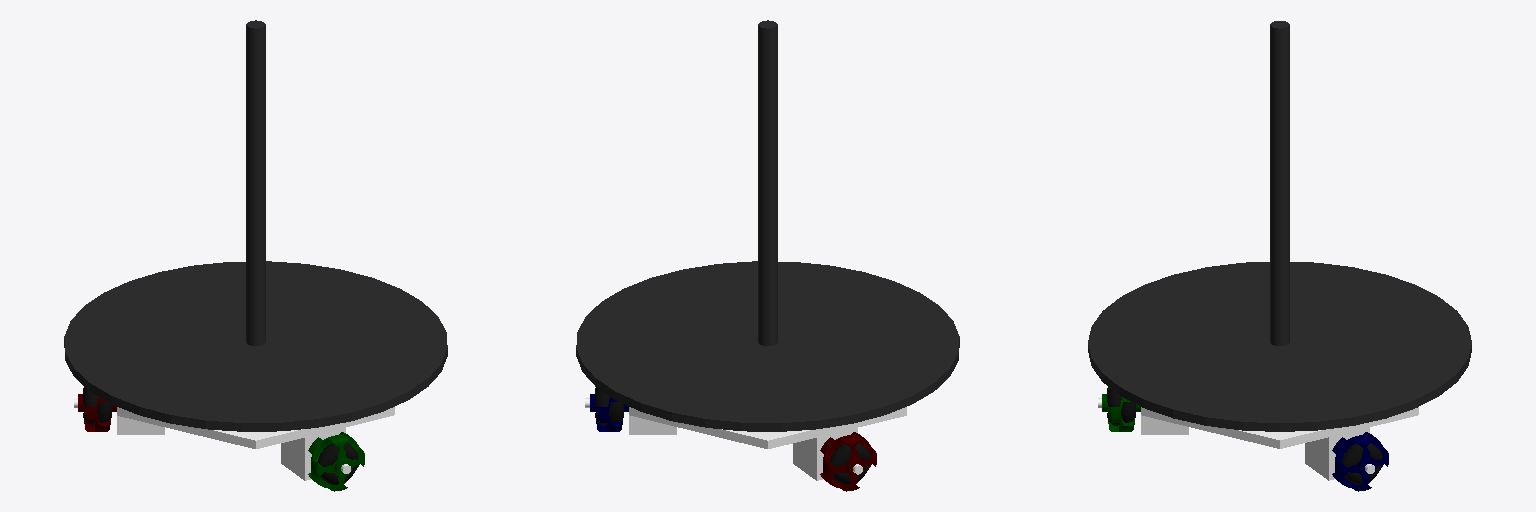
--- Facts derived from the render (not from the file) ---
The picture shows the robot from 3 angles, left to right: view 1: azimuth 30°, elevation 25°; view 2: azimuth 150°, elevation 25°; view 3: azimuth 270°, elevation 25°; orthographic projection.
Model triskarino with 34 links and 33 joints (27 continuous, 6 fixed), rooted at base_link, posed every joint at zero.
Links seen in each view (by area): view 1: layer_0_link, axis_link, plate_link, rim_back_link, rim_left_link; view 2: layer_0_link, axis_link, plate_link, rim_left_link, rim_right_link; view 3: layer_0_link, axis_link, plate_link, rim_right_link, rim_back_link.
Boxes of the visible links, x1=… form: layer_0_link: x1=64, y1=261, x2=447, y2=431; axis_link: x1=246, y1=20, x2=265, y2=345; plate_link: x1=74, y1=399, x2=394, y2=480; rim_back_link: x1=308, y1=432, x2=364, y2=491; rim_left_link: x1=78, y1=387, x2=116, y2=431; layer_0_link: x1=576, y1=261, x2=959, y2=431; axis_link: x1=758, y1=20, x2=777, y2=345; plate_link: x1=585, y1=398, x2=906, y2=480; rim_left_link: x1=820, y1=432, x2=876, y2=491; rim_right_link: x1=590, y1=387, x2=628, y2=431; layer_0_link: x1=1088, y1=262, x2=1471, y2=431; axis_link: x1=1270, y1=21, x2=1289, y2=345; plate_link: x1=1098, y1=398, x2=1418, y2=480; rim_right_link: x1=1332, y1=432, x2=1388, y2=491; rim_back_link: x1=1102, y1=387, x2=1140, y2=431.
Bounding box of the posed robot: 0.4 × 0.4 × 0.465 m (x, y, z).
28 mesh visuals loaded from 4 distinct referenced files (3 binary STL); not drawn: 1 (reference not matched to a file when rendering).

URDF robot description (triskarino):
<?xml version="1.0" ?>
<!-- =================================================================================== -->
<!-- |    This document was autogenerated by xacro from triskarino.urdf.xacro          | -->
<!-- |    EDITING THIS FILE BY HAND IS NOT RECOMMENDED                                 | -->
<!-- =================================================================================== -->
<robot name="triskarino">
  <!-- Specify some standard inertial calculations https://en.wikipedia.org/wiki/List_of_moments_of_inertia -->
  <!-- These make use of xacro's mathematical functionality -->
  <!-- Specify some standard inertial calculations https://en.wikipedia.org/wiki/List_of_moments_of_inertia -->
  <!-- These make use of xacro's mathematical functionality -->
  <material name="black">
    <color rgba="0.0 0.0 0.0 1.0"/>
  </material>
  <material name="blue">
    <color rgba="0.0 0.0 0.8 1.0"/>
  </material>
  <material name="green">
    <color rgba="0.0 0.8 0.0 1.0"/>
  </material>
  <material name="grey">
    <color rgba="0.2 0.2 0.2 1.0"/>
  </material>
  <material name="orange">
    <color rgba="1.0 0.4235294117647059 0.0392156862745098 1.0"/>
  </material>
  <material name="dark_grey">
    <color rgba="0.8627450980392157 0.8627450980392157 0.8627450980392157 1.0"/>
  </material>
  <material name="brown">
    <color rgba="0.8705882352941177 0.8117647058823529 0.7647058823529411 1.0"/>
  </material>
  <material name="red">
    <color rgba="0.8 0.0 0.0 1.0"/>
  </material>
  <material name="white">
    <color rgba="1.0 1.0 1.0 1.0"/>
  </material>
  <link name="base_link"/>
  <link name="plate_link">
    <inertial>
      <origin xyz="0.00000000 0.00000000 33.57142844"/>
      <mass value="1.00000000"/>
      <inertia ixx="6092.55688578" ixy="-0.00000000" ixz="0.00000000" iyy="6092.55696749" iyz="0.00000265" izz="11631.80010839"/>
    </inertial>
    <visual>
      <geometry>
        <mesh filename="package://triskarino_description/meshes/robot_base.stl" scale="0.001 0.001 0.001"/>
      </geometry>
      <material name="base_material">
        <color rgba="1 1 1 1"/>
      </material>
      <origin rpy="0 3.14 0"/>
    </visual>
    <collision>
      <geometry>
        <mesh filename="package://triskarino_description/meshes/robot_base.stl" scale="0.001 0.001 0.001"/>
      </geometry>
      <origin rpy="0 3.14 0"/>
    </collision>
  </link>
  <joint name="plate_joint" type="fixed">
    <parent link="base_link"/>
    <child link="plate_link"/>
    <origin rpy="0 0 0" xyz="0 0 0.1"/>
  </joint>
  <gazebo reference="plate_link">
    <mu1 value="0.0"/>
    <mu2 value="0.0"/>
    <kp value="1000000"/>
    <kd value="1"/>
    <implicitSpringDamper>true</implicitSpringDamper>
    <implicitSpringDamper>true</implicitSpringDamper>
    <maxContacts value="0"/>
  </gazebo>
  <joint name="base_footprint_joint" type="fixed">
    <parent link="base_link"/>
    <child link="base_footprint"/>
    <origin rpy="0 0 0" xyz="0 0 0"/>
  </joint>
  <link name="base_footprint"/>
  <joint name="rim_left_joint" type="continuous">
    <parent link="plate_link"/>
    <child link="rim_left_link"/>
    <axis xyz="0 0 1"/>
    <origin rpy="1.570796326794896 0 1.047197551196597" xyz="-0.142894191624 0.0825 -0.035"/>
  </joint>
  <link name="rim_left_link">
    <inertial>
      <origin xyz="-0.00000435 -0.00000262 -0.00011790"/>
      <mass value="0.20000000"/>
      <inertia ixx="0.00005620" ixy="-0.00000000" ixz="0.00000000" iyy="0.00005620" iyz="-0.00000000" izz="0.00007735"/>
    </inertial>
    <visual>
      <geometry>
        <mesh filename="package://triskarino_description/meshes/rim_scaled.stl"/>
      </geometry>
      <material name="rim_left_material">
        <color rgba="0.3 0 0 1"/>
      </material>
    </visual>
    <collision>
      <origin rpy="0 0 0" xyz="0 0 0"/>
      <geometry>
        <cylinder length="0.02" radius="0.032"/>
      </geometry>
      <surface>
        <bounce restitution_coefficient="0.0001"/>
      </surface>
    </collision>
  </link>
  <link name="roller_e_rim_left_link_link">
    <inertial>
      <origin xyz="0.00000004 -0.00000000 -0.00000002"/>
      <mass value="0.05000000"/>
      <inertia ixx="0.00000328" ixy="0.00000000" ixz="-0.00000000" iyy="0.00000328" iyz="-0.00000000" izz="0.00000191"/>
    </inertial>
    <visual>
      <geometry>
        <mesh filename="package://triskarino_description/meshes/roller_scaled.stl"/>
      </geometry>
      <material name="roller_material">
        <color rgba="0.1 0.1 0.1 1"/>
      </material>
    </visual>
    <collision>
      <geometry>
        <mesh filename="package://triskarino_description/meshes/roller_scaled.stl"/>
      </geometry>
    </collision>
  </link>
  <gazebo reference="roller_e_{parent}">
    <material>Gazebo/Black</material>
  </gazebo>
  <joint name="roller_e_rim_left_link_joint" type="continuous">
    <parent link="rim_left_link"/>
    <child link="roller_e_rim_left_link_link"/>
    <axis xyz="0 0 1"/>
    <origin rpy="-1.570796326794896 0 0" xyz="0.01355 0 0.0055"/>
  </joint>
  <gazebo reference="roller_e_rim_left_link_link">
    <mu1 value="0.0"/>
    <mu2 value="0.0"/>
    <minDepth>0.001</minDepth>
    <kp value="1000000"/>
    <kd value="1"/>
    <maxContacts value="0"/>
  </gazebo>
  <link name="roller_ne_rim_left_link_link">
    <inertial>
      <origin xyz="0.00000004 -0.00000000 -0.00000002"/>
      <mass value="0.05000000"/>
      <inertia ixx="0.00000328" ixy="0.00000000" ixz="-0.00000000" iyy="0.00000328" iyz="-0.00000000" izz="0.00000191"/>
    </inertial>
    <visual>
      <geometry>
        <mesh filename="package://triskarino_description/meshes/roller_scaled.stl"/>
      </geometry>
      <material name="roller_material">
        <color rgba="0.1 0.1 0.1 1"/>
      </material>
    </visual>
    <collision>
      <geometry>
        <mesh filename="package://triskarino_description/meshes/roller_scaled.stl"/>
      </geometry>
    </collision>
  </link>
  <gazebo reference="roller_ne_{parent}">
    <material>Gazebo/Black</material>
  </gazebo>
  <joint name="roller_ne_rim_left_link_joint" type="continuous">
    <parent link="rim_left_link"/>
    <child link="roller_ne_rim_left_link_link"/>
    <axis xyz="0 0 1"/>
    <origin rpy="-1.570796326794896 0 0.7853981633974483" xyz="0.00958129689 0.00958129689 -0.0055"/>
  </joint>
  <gazebo reference="roller_ne_rim_left_link_link">
    <mu1 value="0.0"/>
    <mu2 value="0.0"/>
    <minDepth>0.001</minDepth>
    <kp value="1000000"/>
    <kd value="1"/>
    <maxContacts value="0"/>
  </gazebo>
  <link name="roller_n_rim_left_link_link">
    <inertial>
      <origin xyz="0.00000004 -0.00000000 -0.00000002"/>
      <mass value="0.05000000"/>
      <inertia ixx="0.00000328" ixy="0.00000000" ixz="-0.00000000" iyy="0.00000328" iyz="-0.00000000" izz="0.00000191"/>
    </inertial>
    <visual>
      <geometry>
        <mesh filename="package://triskarino_description/meshes/roller_scaled.stl"/>
      </geometry>
      <material name="roller_material">
        <color rgba="0.1 0.1 0.1 1"/>
      </material>
    </visual>
    <collision>
      <geometry>
        <mesh filename="package://triskarino_description/meshes/roller_scaled.stl"/>
      </geometry>
    </collision>
  </link>
  <gazebo reference="roller_n_{parent}">
    <material>Gazebo/Black</material>
  </gazebo>
  <joint name="roller_n_rim_left_link_joint" type="continuous">
    <parent link="rim_left_link"/>
    <child link="roller_n_rim_left_link_link"/>
    <axis xyz="0 0 1"/>
    <origin rpy="-1.570796326794896 0 1.570796326794896" xyz="0 0.01355 0.0055"/>
  </joint>
  <gazebo reference="roller_n_rim_left_link_link">
    <mu1 value="0.0"/>
    <mu2 value="0.0"/>
    <minDepth>0.001</minDepth>
    <kp value="1000000"/>
    <kd value="1"/>
    <maxContacts value="0"/>
  </gazebo>
  <link name="roller_nw_rim_left_link_link">
    <inertial>
      <origin xyz="0.00000004 -0.00000000 -0.00000002"/>
      <mass value="0.05000000"/>
      <inertia ixx="0.00000328" ixy="0.00000000" ixz="-0.00000000" iyy="0.00000328" iyz="-0.00000000" izz="0.00000191"/>
    </inertial>
    <visual>
      <geometry>
        <mesh filename="package://triskarino_description/meshes/roller_scaled.stl"/>
      </geometry>
      <material name="roller_material">
        <color rgba="0.1 0.1 0.1 1"/>
      </material>
    </visual>
    <collision>
      <geometry>
        <mesh filename="package://triskarino_description/meshes/roller_scaled.stl"/>
      </geometry>
    </collision>
  </link>
  <gazebo reference="roller_nw_{parent}">
    <material>Gazebo/Black</material>
  </gazebo>
  <joint name="roller_nw_rim_left_link_joint" type="continuous">
    <parent link="rim_left_link"/>
    <child link="roller_nw_rim_left_link_link"/>
    <axis xyz="0 0 1"/>
    <origin rpy="-1.570796326794896 0 2.356194490192345" xyz="-0.00958129689 0.00958129689 -0.0055"/>
  </joint>
  <gazebo reference="roller_nw_rim_left_link_link">
    <mu1 value="0.0"/>
    <mu2 value="0.0"/>
    <minDepth>0.001</minDepth>
    <kp value="1000000"/>
    <kd value="1"/>
    <maxContacts value="0"/>
  </gazebo>
  <link name="roller_w_rim_left_link_link">
    <inertial>
      <origin xyz="0.00000004 -0.00000000 -0.00000002"/>
      <mass value="0.05000000"/>
      <inertia ixx="0.00000328" ixy="0.00000000" ixz="-0.00000000" iyy="0.00000328" iyz="-0.00000000" izz="0.00000191"/>
    </inertial>
    <visual>
      <geometry>
        <mesh filename="package://triskarino_description/meshes/roller_scaled.stl"/>
      </geometry>
      <material name="roller_material">
        <color rgba="0.1 0.1 0.1 1"/>
      </material>
    </visual>
    <collision>
      <geometry>
        <mesh filename="package://triskarino_description/meshes/roller_scaled.stl"/>
      </geometry>
    </collision>
  </link>
  <gazebo reference="roller_w_{parent}">
    <material>Gazebo/Black</material>
  </gazebo>
  <joint name="roller_w_rim_left_link_joint" type="continuous">
    <parent link="rim_left_link"/>
    <child link="roller_w_rim_left_link_link"/>
    <axis xyz="0 0 1"/>
    <origin rpy="-1.570796326794896 0 3.141592653589793" xyz="-0.01355 0 0.0055"/>
  </joint>
  <gazebo reference="roller_w_rim_left_link_link">
    <mu1 value="0.0"/>
    <mu2 value="0.0"/>
    <minDepth>0.001</minDepth>
    <kp value="1000000"/>
    <kd value="1"/>
    <maxContacts value="0"/>
  </gazebo>
  <link name="roller_sw_rim_left_link_link">
    <inertial>
      <origin xyz="0.00000004 -0.00000000 -0.00000002"/>
      <mass value="0.05000000"/>
      <inertia ixx="0.00000328" ixy="0.00000000" ixz="-0.00000000" iyy="0.00000328" iyz="-0.00000000" izz="0.00000191"/>
    </inertial>
    <visual>
      <geometry>
        <mesh filename="package://triskarino_description/meshes/roller_scaled.stl"/>
      </geometry>
      <material name="roller_material">
        <color rgba="0.1 0.1 0.1 1"/>
      </material>
    </visual>
    <collision>
      <geometry>
        <mesh filename="package://triskarino_description/meshes/roller_scaled.stl"/>
      </geometry>
    </collision>
  </link>
  <gazebo reference="roller_sw_{parent}">
    <material>Gazebo/Black</material>
  </gazebo>
  <joint name="roller_sw_rim_left_link_joint" type="continuous">
    <parent link="rim_left_link"/>
    <child link="roller_sw_rim_left_link_link"/>
    <axis xyz="0 0 1"/>
    <origin rpy="-1.570796326794896 0 -2.356194490192345" xyz="-0.00958129689 -0.00958129689 -0.0055"/>
  </joint>
  <gazebo reference="roller_sw_rim_left_link_link">
    <mu1 value="0.0"/>
    <mu2 value="0.0"/>
    <minDepth>0.001</minDepth>
    <kp value="1000000"/>
    <kd value="1"/>
    <maxContacts value="0"/>
  </gazebo>
  <link name="roller_s_rim_left_link_link">
    <inertial>
      <origin xyz="0.00000004 -0.00000000 -0.00000002"/>
      <mass value="0.05000000"/>
      <inertia ixx="0.00000328" ixy="0.00000000" ixz="-0.00000000" iyy="0.00000328" iyz="-0.00000000" izz="0.00000191"/>
    </inertial>
    <visual>
      <geometry>
        <mesh filename="package://triskarino_description/meshes/roller_scaled.stl"/>
      </geometry>
      <material name="roller_material">
        <color rgba="0.1 0.1 0.1 1"/>
      </material>
    </visual>
    <collision>
      <geometry>
        <mesh filename="package://triskarino_description/meshes/roller_scaled.stl"/>
      </geometry>
    </collision>
  </link>
  <gazebo reference="roller_s_{parent}">
    <material>Gazebo/Black</material>
  </gazebo>
  <joint name="roller_s_rim_left_link_joint" type="continuous">
    <parent link="rim_left_link"/>
    <child link="roller_s_rim_left_link_link"/>
    <axis xyz="0 0 1"/>
    <origin rpy="-1.570796326794896 0 -1.570796326794896" xyz="0 -0.01355 0.0055"/>
  </joint>
  <gazebo reference="roller_s_rim_left_link_link">
    <mu1 value="0.0"/>
    <mu2 value="0.0"/>
    <minDepth>0.001</minDepth>
    <kp value="1000000"/>
    <kd value="1"/>
    <maxContacts value="0"/>
  </gazebo>
  <link name="roller_se_rim_left_link_link">
    <inertial>
      <origin xyz="0.00000004 -0.00000000 -0.00000002"/>
      <mass value="0.05000000"/>
      <inertia ixx="0.00000328" ixy="0.00000000" ixz="-0.00000000" iyy="0.00000328" iyz="-0.00000000" izz="0.00000191"/>
    </inertial>
    <visual>
      <geometry>
        <mesh filename="package://triskarino_description/meshes/roller_scaled.stl"/>
      </geometry>
      <material name="roller_material">
        <color rgba="0.1 0.1 0.1 1"/>
      </material>
    </visual>
    <collision>
      <geometry>
        <mesh filename="package://triskarino_description/meshes/roller_scaled.stl"/>
      </geometry>
    </collision>
  </link>
  <gazebo reference="roller_se_{parent}">
    <material>Gazebo/Black</material>
  </gazebo>
  <joint name="roller_se_rim_left_link_joint" type="continuous">
    <parent link="rim_left_link"/>
    <child link="roller_se_rim_left_link_link"/>
    <axis xyz="0 0 1"/>
    <origin rpy="-1.570796326794896 0 -0.7853981633974483" xyz="0.00958129689 -0.00958129689 -0.0055"/>
  </joint>
  <gazebo reference="roller_se_rim_left_link_link">
    <mu1 value="0.0"/>
    <mu2 value="0.0"/>
    <minDepth>0.001</minDepth>
    <kp value="1000000"/>
    <kd value="1"/>
    <maxContacts value="0"/>
  </gazebo>
  <transmission name="rim_left_transmission">
    <type>transmission_interface/SimpleTransmission</type>
    <joint name="rim_left_joint">
      <hardwareInterface>hardware_interface/VelocityJointInterface</hardwareInterface>
    </joint>
    <actuator name="rim_left_motor">
      <hardwareInterface>hardware_interface/VelocityJointInterface</hardwareInterface>
      <mechanicalReduction>1</mechanicalReduction>
    </actuator>
  </transmission>
  <gazebo reference="rim_left_link">
    <collision name="rim_left_link_collision">
      <surface>
        <contact>
          <ode>
            <kp>1e+6</kp>
            <kd>1</kd>
            <min_depth>0.00001</min_depth>
          </ode>
        </contact>
        <friction>
          <ode>
            <mu>0</mu>
            <mu2>0</mu2>
            <max_contacts>2</max_contacts>
            <fdir1>0 0 1</fdir1>
            <slip1>1</slip1>
            <slip2>1</slip2>
          </ode>
        </friction>
      </surface>
    </collision>
  </gazebo>
  <joint name="rim_back_joint" type="continuous">
    <parent link="plate_link"/>
    <child link="rim_back_link"/>
    <axis xyz="0 0 1"/>
    <origin rpy="1.570796326794896 0 3.141592653589793" xyz="0 -0.1650 -0.035"/>
  </joint>
  <link name="rim_back_link">
    <inertial>
      <origin xyz="-0.00000435 -0.00000262 -0.00011790"/>
      <mass value="0.20000000"/>
      <inertia ixx="0.00005620" ixy="-0.00000000" ixz="0.00000000" iyy="0.00005620" iyz="-0.00000000" izz="0.00007735"/>
    </inertial>
    <visual>
      <geometry>
        <mesh filename="package://triskarino_description/meshes/rim_scaled.stl"/>
      </geometry>
      <material name="rim_back_material">
        <color rgba="0 0.3 0 1"/>
      </material>
    </visual>
    <collision>
      <origin rpy="0 0 0" xyz="0 0 0"/>
      <geometry>
        <cylinder length="0.02" radius="0.032"/>
      </geometry>
      <surface>
        <bounce restitution_coefficient="0.0001"/>
      </surface>
    </collision>
  </link>
  <link name="roller_e_rim_back_link_link">
    <inertial>
      <origin xyz="0.00000004 -0.00000000 -0.00000002"/>
      <mass value="0.05000000"/>
      <inertia ixx="0.00000328" ixy="0.00000000" ixz="-0.00000000" iyy="0.00000328" iyz="-0.00000000" izz="0.00000191"/>
    </inertial>
    <visual>
      <geometry>
        <mesh filename="package://triskarino_description/meshes/roller_scaled.stl"/>
      </geometry>
      <material name="roller_material">
        <color rgba="0.1 0.1 0.1 1"/>
      </material>
    </visual>
    <collision>
      <geometry>
        <mesh filename="package://triskarino_description/meshes/roller_scaled.stl"/>
      </geometry>
    </collision>
  </link>
  <gazebo reference="roller_e_{parent}">
    <material>Gazebo/Black</material>
  </gazebo>
  <joint name="roller_e_rim_back_link_joint" type="continuous">
    <parent link="rim_back_link"/>
    <child link="roller_e_rim_back_link_link"/>
    <axis xyz="0 0 1"/>
    <origin rpy="-1.570796326794896 0 0" xyz="0.01355 0 0.0055"/>
  </joint>
  <gazebo reference="roller_e_rim_back_link_link">
    <mu1 value="0.0"/>
    <mu2 value="0.0"/>
    <minDepth>0.001</minDepth>
    <kp value="1000000"/>
    <kd value="1"/>
    <maxContacts value="0"/>
  </gazebo>
  <link name="roller_ne_rim_back_link_link">
    <inertial>
      <origin xyz="0.00000004 -0.00000000 -0.00000002"/>
      <mass value="0.05000000"/>
      <inertia ixx="0.00000328" ixy="0.00000000" ixz="-0.00000000" iyy="0.00000328" iyz="-0.00000000" izz="0.00000191"/>
    </inertial>
    <visual>
      <geometry>
        <mesh filename="package://triskarino_description/meshes/roller_scaled.stl"/>
      </geometry>
      <material name="roller_material">
        <color rgba="0.1 0.1 0.1 1"/>
      </material>
    </visual>
    <collision>
      <geometry>
        <mesh filename="package://triskarino_description/meshes/roller_scaled.stl"/>
      </geometry>
    </collision>
  </link>
  <gazebo reference="roller_ne_{parent}">
    <material>Gazebo/Black</material>
  </gazebo>
  <joint name="roller_ne_rim_back_link_joint" type="continuous">
    <parent link="rim_back_link"/>
    <child link="roller_ne_rim_back_link_link"/>
    <axis xyz="0 0 1"/>
    <origin rpy="-1.570796326794896 0 0.7853981633974483" xyz="0.00958129689 0.00958129689 -0.0055"/>
  </joint>
  <gazebo reference="roller_ne_rim_back_link_link">
    <mu1 value="0.0"/>
    <mu2 value="0.0"/>
    <minDepth>0.001</minDepth>
    <kp value="1000000"/>
    <kd value="1"/>
    <maxContacts value="0"/>
  </gazebo>
  <link name="roller_n_rim_back_link_link">
    <inertial>
      <origin xyz="0.00000004 -0.00000000 -0.00000002"/>
      <mass value="0.05000000"/>
      <inertia ixx="0.00000328" ixy="0.00000000" ixz="-0.00000000" iyy="0.00000328" iyz="-0.00000000" izz="0.00000191"/>
    </inertial>
    <visual>
      <geometry>
        <mesh filename="package://triskarino_description/meshes/roller_scaled.stl"/>
      </geometry>
      <material name="roller_material">
        <color rgba="0.1 0.1 0.1 1"/>
      </material>
    </visual>
    <collision>
      <geometry>
        <mesh filename="package://triskarino_description/meshes/roller_scaled.stl"/>
      </geometry>
    </collision>
  </link>
  <gazebo reference="roller_n_{parent}">
    <material>Gazebo/Black</material>
  </gazebo>
  <joint name="roller_n_rim_back_link_joint" type="continuous">
    <parent link="rim_back_link"/>
    <child link="roller_n_rim_back_link_link"/>
    <axis xyz="0 0 1"/>
    <origin rpy="-1.570796326794896 0 1.570796326794896" xyz="0 0.01355 0.0055"/>
  </joint>
  <gazebo reference="roller_n_rim_back_link_link">
    <mu1 value="0.0"/>
    <mu2 value="0.0"/>
    <minDepth>0.001</minDepth>
    <kp value="1000000"/>
    <kd value="1"/>
    <maxContacts value="0"/>
  </gazebo>
  <link name="roller_nw_rim_back_link_link">
    <inertial>
      <origin xyz="0.00000004 -0.00000000 -0.00000002"/>
      <mass value="0.05000000"/>
      <inertia ixx="0.00000328" ixy="0.00000000" ixz="-0.00000000" iyy="0.00000328" iyz="-0.00000000" izz="0.00000191"/>
    </inertial>
    <visual>
      <geometry>
        <mesh filename="package://triskarino_description/meshes/roller_scaled.stl"/>
      </geometry>
      <material name="roller_material">
        <color rgba="0.1 0.1 0.1 1"/>
      </material>
    </visual>
    <collision>
      <geometry>
        <mesh filename="package://triskarino_description/meshes/roller_scaled.stl"/>
      </geometry>
    </collision>
  </link>
  <gazebo reference="roller_nw_{parent}">
    <material>Gazebo/Black</material>
  </gazebo>
  <joint name="roller_nw_rim_back_link_joint" type="continuous">
    <parent link="rim_back_link"/>
    <child link="roller_nw_rim_back_link_link"/>
    <axis xyz="0 0 1"/>
    <origin rpy="-1.570796326794896 0 2.356194490192345" xyz="-0.00958129689 0.00958129689 -0.0055"/>
  </joint>
  <gazebo reference="roller_nw_rim_back_link_link">
    <mu1 value="0.0"/>
    <mu2 value="0.0"/>
    <minDepth>0.001</minDepth>
    <kp value="1000000"/>
    <kd value="1"/>
    <maxContacts value="0"/>
  </gazebo>
  <link name="roller_w_rim_back_link_link">
    <inertial>
      <origin xyz="0.00000004 -0.00000000 -0.00000002"/>
      <mass value="0.05000000"/>
      <inertia ixx="0.00000328" ixy="0.00000000" ixz="-0.00000000" iyy="0.00000328" iyz="-0.00000000" izz="0.00000191"/>
    </inertial>
    <visual>
      <geometry>
        <mesh filename="package://triskarino_description/meshes/roller_scaled.stl"/>
      </geometry>
      <material name="roller_material">
        <color rgba="0.1 0.1 0.1 1"/>
      </material>
    </visual>
    <collision>
      <geometry>
        <mesh filename="package://triskarino_description/meshes/roller_scaled.stl"/>
      </geometry>
    </collision>
  </link>
  <gazebo reference="roller_w_{parent}">
    <material>Gazebo/Black</material>
  </gazebo>
  <joint name="roller_w_rim_back_link_joint" type="continuous">
    <parent link="rim_back_link"/>
    <child link="roller_w_rim_back_link_link"/>
    <axis xyz="0 0 1"/>
    <origin rpy="-1.570796326794896 0 3.141592653589793" xyz="-0.01355 0 0.0055"/>
  </joint>
  <gazebo reference="roller_w_rim_back_link_link">
    <mu1 value="0.0"/>
    <mu2 value="0.0"/>
    <minDepth>0.001</minDepth>
    <kp value="1000000"/>
    <kd value="1"/>
    <maxContacts value="0"/>
  </gazebo>
  <link name="roller_sw_rim_back_link_link">
    <inertial>
      <origin xyz="0.00000004 -0.00000000 -0.00000002"/>
      <mass value="0.05000000"/>
      <inertia ixx="0.00000328" ixy="0.00000000" ixz="-0.00000000" iyy="0.00000328" iyz="-0.00000000" izz="0.00000191"/>
    </inertial>
    <visual>
      <geometry>
        <mesh filename="package://triskarino_description/meshes/roller_scaled.stl"/>
      </geometry>
      <material name="roller_material">
        <color rgba="0.1 0.1 0.1 1"/>
      </material>
    </visual>
    <collision>
      <geometry>
        <mesh filename="package://triskarino_description/meshes/roller_scaled.stl"/>
      </geometry>
    </collision>
  </link>
  <gazebo reference="roller_sw_{parent}">
    <material>Gazebo/Black</material>
  </gazebo>
  <joint name="roller_sw_rim_back_link_joint" type="continuous">
    <parent link="rim_back_link"/>
    <child link="roller_sw_rim_back_link_link"/>
    <axis xyz="0 0 1"/>
    <origin rpy="-1.570796326794896 0 -2.356194490192345" xyz="-0.00958129689 -0.00958129689 -0.0055"/>
  </joint>
  <gazebo reference="roller_sw_rim_back_link_link">
    <mu1 value="0.0"/>
    <mu2 value="0.0"/>
    <minDepth>0.001</minDepth>
    <kp value="1000000"/>
    <kd value="1"/>
    <maxContacts value="0"/>
  </gazebo>
  <link name="roller_s_rim_back_link_link">
    <inertial>
      <origin xyz="0.00000004 -0.00000000 -0.00000002"/>
      <mass value="0.05000000"/>
      <inertia ixx="0.00000328" ixy="0.00000000" ixz="-0.00000000" iyy="0.00000328" iyz="-0.00000000" izz="0.00000191"/>
    </inertial>
    <visual>
      <geometry>
        <mesh filename="package://triskarino_description/meshes/roller_scaled.stl"/>
      </geometry>
      <material name="roller_material">
        <color rgba="0.1 0.1 0.1 1"/>
      </material>
    </visual>
    <collision>
      <geometry>
        <mesh filename="package://triskarino_description/meshes/roller_scaled.stl"/>
      </geometry>
    </collision>
  </link>
  <gazebo reference="roller_s_{parent}">
    <material>Gazebo/Black</material>
  </gazebo>
  <joint name="roller_s_rim_back_link_joint" type="continuous">
    <parent link="rim_back_link"/>
    <child link="roller_s_rim_back_link_link"/>
    <axis xyz="0 0 1"/>
    <origin rpy="-1.570796326794896 0 -1.570796326794896" xyz="0 -0.01355 0.0055"/>
  </joint>
  <gazebo reference="roller_s_rim_back_link_link">
    <mu1 value="0.0"/>
    <mu2 value="0.0"/>
    <minDepth>0.001</minDepth>
    <kp value="1000000"/>
    <kd value="1"/>
    <maxContacts value="0"/>
  </gazebo>
  <link name="roller_se_rim_back_link_link">
    <inertial>
      <origin xyz="0.00000004 -0.00000000 -0.00000002"/>
      <mass value="0.05000000"/>
      <inertia ixx="0.00000328" ixy="0.00000000" ixz="-0.00000000" iyy="0.00000328" iyz="-0.00000000" izz="0.00000191"/>
    </inertial>
    <visual>
      <geometry>
        <mesh filename="package://triskarino_description/meshes/roller_scaled.stl"/>
      </geometry>
      <material name="roller_material">
        <color rgba="0.1 0.1 0.1 1"/>
      </material>
    </visual>
    <collision>
      <geometry>
        <mesh filename="package://triskarino_description/meshes/roller_scaled.stl"/>
      </geometry>
    </collision>
  </link>
  <gazebo reference="roller_se_{parent}">
    <material>Gazebo/Black</material>
  </gazebo>
  <joint name="roller_se_rim_back_link_joint" type="continuous">
    <parent link="rim_back_link"/>
    <child link="roller_se_rim_back_link_link"/>
    <axis xyz="0 0 1"/>
    <origin rpy="-1.570796326794896 0 -0.7853981633974483" xyz="0.00958129689 -0.00958129689 -0.0055"/>
  </joint>
  <gazebo reference="roller_se_rim_back_link_link">
    <mu1 value="0.0"/>
    <mu2 value="0.0"/>
    <minDepth>0.001</minDepth>
    <kp value="1000000"/>
    <kd value="1"/>
    <maxContacts value="0"/>
  </gazebo>
  <transmission name="rim_back_transmission">
    <type>transmission_interface/SimpleTransmission</type>
    <joint name="rim_back_joint">
      <hardwareInterface>hardware_interface/VelocityJointInterface</hardwareInterface>
    </joint>
    <actuator name="rim_back_motor">
      <hardwareInterface>hardware_interface/VelocityJointInterface</hardwareInterface>
      <mechanicalReduction>1</mechanicalReduction>
    </actuator>
  </transmission>
  <gazebo reference="rim_back_link">
    <collision name="rim_back_link_collision">
      <surface>
        <contact>
          <ode>
            <kp>1e+6</kp>
            <kd>1</kd>
            <min_depth>0.00001</min_depth>
          </ode>
        </contact>
        <friction>
          <ode>
            <mu>0</mu>
            <mu2>0</mu2>
            <max_contacts>2</max_contacts>
            <fdir1>0 0 1</fdir1>
            <slip1>1</slip1>
            <slip2>1</slip2>
          </ode>
        </friction>
      </surface>
    </collision>
  </gazebo>
  <joint name="rim_right_joint" type="continuous">
    <parent link="plate_link"/>
    <child link="rim_right_link"/>
    <axis xyz="0 0 1"/>
    <origin rpy="1.570796326794896 0 -1.047197551196597" xyz="0.142894191624 0.0825 -0.035"/>
  </joint>
  <link name="rim_right_link">
    <inertial>
      <origin xyz="-0.00000435 -0.00000262 -0.00011790"/>
      <mass value="0.20000000"/>
      <inertia ixx="0.00005620" ixy="-0.00000000" ixz="0.00000000" iyy="0.00005620" iyz="-0.00000000" izz="0.00007735"/>
    </inertial>
    <visual>
      <geometry>
        <mesh filename="package://triskarino_description/meshes/rim_scaled.stl"/>
      </geometry>
      <material name="rim_right_material">
        <color rgba="0 0 0.3 1"/>
      </material>
    </visual>
    <collision>
      <origin rpy="0 0 0" xyz="0 0 0"/>
      <geometry>
        <cylinder length="0.02" radius="0.032"/>
      </geometry>
      <surface>
        <bounce restitution_coefficient="0.0001"/>
      </surface>
    </collision>
  </link>
  <link name="roller_e_rim_right_link_link">
    <inertial>
      <origin xyz="0.00000004 -0.00000000 -0.00000002"/>
      <mass value="0.05000000"/>
      <inertia ixx="0.00000328" ixy="0.00000000" ixz="-0.00000000" iyy="0.00000328" iyz="-0.00000000" izz="0.00000191"/>
    </inertial>
    <visual>
      <geometry>
        <mesh filename="package://triskarino_description/meshes/roller_scaled.stl"/>
      </geometry>
      <material name="roller_material">
        <color rgba="0.1 0.1 0.1 1"/>
      </material>
    </visual>
    <collision>
      <geometry>
        <mesh filename="package://triskarino_description/meshes/roller_scaled.stl"/>
      </geometry>
    </collision>
  </link>
  <gazebo reference="roller_e_{parent}">
    <material>Gazebo/Black</material>
  </gazebo>
  <joint name="roller_e_rim_right_link_joint" type="continuous">
    <parent link="rim_right_link"/>
    <child link="roller_e_rim_right_link_link"/>
    <axis xyz="0 0 1"/>
    <origin rpy="-1.570796326794896 0 0" xyz="0.01355 0 0.0055"/>
  </joint>
  <gazebo reference="roller_e_rim_right_link_link">
    <mu1 value="0.0"/>
    <mu2 value="0.0"/>
    <minDepth>0.001</minDepth>
    <kp value="1000000"/>
    <kd value="1"/>
    <maxContacts value="0"/>
  </gazebo>
  <link name="roller_ne_rim_right_link_link">
    <inertial>
      <origin xyz="0.00000004 -0.00000000 -0.00000002"/>
      <mass value="0.05000000"/>
      <inertia ixx="0.00000328" ixy="0.00000000" ixz="-0.00000000" iyy="0.00000328" iyz="-0.00000000" izz="0.00000191"/>
    </inertial>
    <visual>
      <geometry>
        <mesh filename="package://triskarino_description/meshes/roller_scaled.stl"/>
      </geometry>
      <material name="roller_material">
        <color rgba="0.1 0.1 0.1 1"/>
      </material>
    </visual>
    <collision>
      <geometry>
        <mesh filename="package://triskarino_description/meshes/roller_scaled.stl"/>
      </geometry>
    </collision>
  </link>
  <gazebo reference="roller_ne_{parent}">
    <material>Gazebo/Black</material>
  </gazebo>
  <joint name="roller_ne_rim_right_link_joint" type="continuous">
    <parent link="rim_right_link"/>
    <child link="roller_ne_rim_right_link_link"/>
    <axis xyz="0 0 1"/>
    <origin rpy="-1.570796326794896 0 0.7853981633974483" xyz="0.00958129689 0.00958129689 -0.0055"/>
  </joint>
  <gazebo reference="roller_ne_rim_right_link_link">
    <mu1 value="0.0"/>
    <mu2 value="0.0"/>
    <minDepth>0.001</minDepth>
    <kp value="1000000"/>
    <kd value="1"/>
    <maxContacts value="0"/>
  </gazebo>
  <link name="roller_n_rim_right_link_link">
    <inertial>
      <origin xyz="0.00000004 -0.00000000 -0.00000002"/>
      <mass value="0.05000000"/>
      <inertia ixx="0.00000328" ixy="0.00000000" ixz="-0.00000000" iyy="0.00000328" iyz="-0.00000000" izz="0.00000191"/>
    </inertial>
    <visual>
      <geometry>
        <mesh filename="package://triskarino_description/meshes/roller_scaled.stl"/>
      </geometry>
      <material name="roller_material">
        <color rgba="0.1 0.1 0.1 1"/>
      </material>
    </visual>
    <collision>
      <geometry>
        <mesh filename="package://triskarino_description/meshes/roller_scaled.stl"/>
      </geometry>
    </collision>
  </link>
  <gazebo reference="roller_n_{parent}">
    <material>Gazebo/Black</material>
  </gazebo>
  <joint name="roller_n_rim_right_link_joint" type="continuous">
    <parent link="rim_right_link"/>
    <child link="roller_n_rim_right_link_link"/>
    <axis xyz="0 0 1"/>
    <origin rpy="-1.570796326794896 0 1.570796326794896" xyz="0 0.01355 0.0055"/>
  </joint>
  <gazebo reference="roller_n_rim_right_link_link">
    <mu1 value="0.0"/>
    <mu2 value="0.0"/>
    <minDepth>0.001</minDepth>
    <kp value="1000000"/>
    <kd value="1"/>
    <maxContacts value="0"/>
  </gazebo>
  <link name="roller_nw_rim_right_link_link">
    <inertial>
      <origin xyz="0.00000004 -0.00000000 -0.00000002"/>
      <mass value="0.05000000"/>
      <inertia ixx="0.00000328" ixy="0.00000000" ixz="-0.00000000" iyy="0.00000328" iyz="-0.00000000" izz="0.00000191"/>
    </inertial>
    <visual>
      <geometry>
        <mesh filename="package://triskarino_description/meshes/roller_scaled.stl"/>
      </geometry>
      <material name="roller_material">
        <color rgba="0.1 0.1 0.1 1"/>
      </material>
    </visual>
    <collision>
      <geometry>
        <mesh filename="package://triskarino_description/meshes/roller_scaled.stl"/>
      </geometry>
    </collision>
  </link>
  <gazebo reference="roller_nw_{parent}">
    <material>Gazebo/Black</material>
  </gazebo>
  <joint name="roller_nw_rim_right_link_joint" type="continuous">
    <parent link="rim_right_link"/>
    <child link="roller_nw_rim_right_link_link"/>
    <axis xyz="0 0 1"/>
    <origin rpy="-1.570796326794896 0 2.356194490192345" xyz="-0.00958129689 0.00958129689 -0.0055"/>
  </joint>
  <gazebo reference="roller_nw_rim_right_link_link">
    <mu1 value="0.0"/>
    <mu2 value="0.0"/>
    <minDepth>0.001</minDepth>
    <kp value="1000000"/>
    <kd value="1"/>
    <maxContacts value="0"/>
  </gazebo>
  <link name="roller_w_rim_right_link_link">
    <inertial>
      <origin xyz="0.00000004 -0.00000000 -0.00000002"/>
      <mass value="0.05000000"/>
      <inertia ixx="0.00000328" ixy="0.00000000" ixz="-0.00000000" iyy="0.00000328" iyz="-0.00000000" izz="0.00000191"/>
    </inertial>
    <visual>
      <geometry>
        <mesh filename="package://triskarino_description/meshes/roller_scaled.stl"/>
      </geometry>
      <material name="roller_material">
        <color rgba="0.1 0.1 0.1 1"/>
      </material>
    </visual>
    <collision>
      <geometry>
        <mesh filename="package://triskarino_description/meshes/roller_scaled.stl"/>
      </geometry>
    </collision>
  </link>
  <gazebo reference="roller_w_{parent}">
    <material>Gazebo/Black</material>
  </gazebo>
  <joint name="roller_w_rim_right_link_joint" type="continuous">
    <parent link="rim_right_link"/>
    <child link="roller_w_rim_right_link_link"/>
    <axis xyz="0 0 1"/>
    <origin rpy="-1.570796326794896 0 3.141592653589793" xyz="-0.01355 0 0.0055"/>
  </joint>
  <gazebo reference="roller_w_rim_right_link_link">
    <mu1 value="0.0"/>
    <mu2 value="0.0"/>
    <minDepth>0.001</minDepth>
    <kp value="1000000"/>
    <kd value="1"/>
    <maxContacts value="0"/>
  </gazebo>
  <link name="roller_sw_rim_right_link_link">
    <inertial>
      <origin xyz="0.00000004 -0.00000000 -0.00000002"/>
      <mass value="0.05000000"/>
      <inertia ixx="0.00000328" ixy="0.00000000" ixz="-0.00000000" iyy="0.00000328" iyz="-0.00000000" izz="0.00000191"/>
    </inertial>
    <visual>
      <geometry>
        <mesh filename="package://triskarino_description/meshes/roller_scaled.stl"/>
      </geometry>
      <material name="roller_material">
        <color rgba="0.1 0.1 0.1 1"/>
      </material>
    </visual>
    <collision>
      <geometry>
        <mesh filename="package://triskarino_description/meshes/roller_scaled.stl"/>
      </geometry>
    </collision>
  </link>
  <gazebo reference="roller_sw_{parent}">
    <material>Gazebo/Black</material>
  </gazebo>
  <joint name="roller_sw_rim_right_link_joint" type="continuous">
    <parent link="rim_right_link"/>
    <child link="roller_sw_rim_right_link_link"/>
    <axis xyz="0 0 1"/>
    <origin rpy="-1.570796326794896 0 -2.356194490192345" xyz="-0.00958129689 -0.00958129689 -0.0055"/>
  </joint>
  <gazebo reference="roller_sw_rim_right_link_link">
    <mu1 value="0.0"/>
    <mu2 value="0.0"/>
    <minDepth>0.001</minDepth>
    <kp value="1000000"/>
    <kd value="1"/>
    <maxContacts value="0"/>
  </gazebo>
  <link name="roller_s_rim_right_link_link">
    <inertial>
      <origin xyz="0.00000004 -0.00000000 -0.00000002"/>
      <mass value="0.05000000"/>
      <inertia ixx="0.00000328" ixy="0.00000000" ixz="-0.00000000" iyy="0.00000328" iyz="-0.00000000" izz="0.00000191"/>
    </inertial>
    <visual>
      <geometry>
        <mesh filename="package://triskarino_description/meshes/roller_scaled.stl"/>
      </geometry>
      <material name="roller_material">
        <color rgba="0.1 0.1 0.1 1"/>
      </material>
    </visual>
    <collision>
      <geometry>
        <mesh filename="package://triskarino_description/meshes/roller_scaled.stl"/>
      </geometry>
    </collision>
  </link>
  <gazebo reference="roller_s_{parent}">
    <material>Gazebo/Black</material>
  </gazebo>
  <joint name="roller_s_rim_right_link_joint" type="continuous">
    <parent link="rim_right_link"/>
    <child link="roller_s_rim_right_link_link"/>
    <axis xyz="0 0 1"/>
    <origin rpy="-1.570796326794896 0 -1.570796326794896" xyz="0 -0.01355 0.0055"/>
  </joint>
  <gazebo reference="roller_s_rim_right_link_link">
    <mu1 value="0.0"/>
    <mu2 value="0.0"/>
    <minDepth>0.001</minDepth>
    <kp value="1000000"/>
    <kd value="1"/>
    <maxContacts value="0"/>
  </gazebo>
  <link name="roller_se_rim_right_link_link">
    <inertial>
      <origin xyz="0.00000004 -0.00000000 -0.00000002"/>
      <mass value="0.05000000"/>
      <inertia ixx="0.00000328" ixy="0.00000000" ixz="-0.00000000" iyy="0.00000328" iyz="-0.00000000" izz="0.00000191"/>
    </inertial>
    <visual>
      <geometry>
        <mesh filename="package://triskarino_description/meshes/roller_scaled.stl"/>
      </geometry>
      <material name="roller_material">
        <color rgba="0.1 0.1 0.1 1"/>
      </material>
    </visual>
    <collision>
      <geometry>
        <mesh filename="package://triskarino_description/meshes/roller_scaled.stl"/>
      </geometry>
    </collision>
  </link>
  <gazebo reference="roller_se_{parent}">
    <material>Gazebo/Black</material>
  </gazebo>
  <joint name="roller_se_rim_right_link_joint" type="continuous">
    <parent link="rim_right_link"/>
    <child link="roller_se_rim_right_link_link"/>
    <axis xyz="0 0 1"/>
    <origin rpy="-1.570796326794896 0 -0.7853981633974483" xyz="0.00958129689 -0.00958129689 -0.0055"/>
  </joint>
  <gazebo reference="roller_se_rim_right_link_link">
    <mu1 value="0.0"/>
    <mu2 value="0.0"/>
    <minDepth>0.001</minDepth>
    <kp value="1000000"/>
    <kd value="1"/>
    <maxContacts value="0"/>
  </gazebo>
  <transmission name="rim_right_transmission">
    <type>transmission_interface/SimpleTransmission</type>
    <joint name="rim_right_joint">
      <hardwareInterface>hardware_interface/VelocityJointInterface</hardwareInterface>
    </joint>
    <actuator name="rim_right_motor">
      <hardwareInterface>hardware_interface/VelocityJointInterface</hardwareInterface>
      <mechanicalReduction>1</mechanicalReduction>
    </actuator>
  </transmission>
  <gazebo reference="rim_right_link">
    <collision name="rim_right_link_collision">
      <surface>
        <contact>
          <ode>
            <kp>1e+6</kp>
            <kd>1</kd>
            <min_depth>0.00001</min_depth>
          </ode>
        </contact>
        <friction>
          <ode>
            <mu>0</mu>
            <mu2>0</mu2>
            <max_contacts>2</max_contacts>
            <fdir1>0 0 1</fdir1>
            <slip1>1</slip1>
            <slip2>1</slip2>
          </ode>
        </friction>
      </surface>
    </collision>
  </gazebo>
  <joint name="axis_joint" type="fixed">
    <parent link="plate_link"/>
    <child link="axis_link"/>
    <origin rpy="0 0 0" xyz="0 0 0.2"/>
  </joint>
  <link name="axis_link">
    <visual>
      <geometry>
        <cylinder length="0.4" radius="0.01"/>
      </geometry>
      <material name="grey"/>
    </visual>
    <collision>
      <geometry>
        <cylinder length="0.4" radius="0.01"/>
      </geometry>
    </collision>
    <inertial>
      <origin rpy="0 0 0" xyz="0 0 0"/>
      <mass value="1"/>
      <inertia ixx="0.013358333333333335" ixy="0.0" ixz="0.0" iyy="0.013358333333333335" iyz="0.0" izz="5e-05"/>
    </inertial>
  </link>
  <joint name="layer_0_joint" type="fixed">
    <parent link="axis_link"/>
    <child link="layer_0_link"/>
    <origin rpy="0 0 0" xyz="0 0 -0.17"/>
  </joint>
  <link name="layer_0_link">
    <visual>
      <geometry>
        <cylinder length="0.01" radius="0.2"/>
      </geometry>
      <material name="grey"/>
    </visual>
    <collision>
      <geometry>
        <cylinder length="0.01" radius="0.2"/>
      </geometry>
    </collision>
    <inertial>
      <origin rpy="0 0 0" xyz="0 0 0"/>
      <mass value="1"/>
      <inertia ixx="0.010008333333333334" ixy="0.0" ixz="0.0" iyy="0.010008333333333334" iyz="0.0" izz="0.020000000000000004"/>
    </inertial>
  </link>
  <link name="laser">
    <inertial>
      <mass value="1.1"/>
      <origin xyz="0 0 0"/>
      <inertia ixx="0.00307156543804" ixy="0.0" ixz="0.0" iyy="0.0031284904152700005" iyz="0.0" izz="0.00196432421427"/>
    </inertial>
  </link>
  <gazebo reference="laser">
    <turnGravityOff>true</turnGravityOff>
    <sensor name="laser" type="ray">
      <pose>0 0 0 0 0 0</pose>
      <visualize>true</visualize>
      <update_rate>10.0</update_rate>
      <ray>
        <scan>
          <horizontal>
            <samples>720</samples>
            <resolution>1</resolution>
            <min_angle>-2.0944</min_angle>
            <max_angle>2.0944</max_angle>
          </horizontal>
        </scan>
        <range>
          <min>0.01</min>
          <max>30</max>
          <resolution>0.01</resolution>
        </range>
        <noise>
          <type>gaussian</type>
          <mean>0.0</mean>
          <stddev>0.001</stddev>
        </noise>
      </ray>
      <plugin filename="libgazebo_ros_laser.so" name="laser_controller">
        <tf_prefix/>
        <frameName>laser</frameName>
        <topicName>scan</topicName>
        <robotNamespace>triskarino</robotNamespace>
      </plugin>
    </sensor>
  </gazebo>
  <joint name="laser_mount_joint" type="fixed">
    <origin rpy="0 0 1.5708" xyz="0 0.11 0"/>
    <parent link="layer_0_link"/>
    <child link="laser_mount"/>
  </joint>
  <link name="laser_mount">
    <visual>
      <origin rpy="0 0 0" xyz="0 0 0"/>
      <geometry>
        <!-- Origin of this mesh is the base of the bracket. -->
        <mesh filename="package://triskarino_description/meshes/hokuyo_ust10.stl"/>
      </geometry>
      <material name="dark_grey"/>
    </visual>
  </link>
  <joint name="laser_joint" type="fixed">
    <!-- This offset is from the base of the bracket to the LIDAR's focal point. -->
    <origin rpy="0 0 0" xyz="0 0 0.0474"/>
    <parent link="laser_mount"/>
    <child link="laser"/>
  </joint>
  <!-- Fix to make rviz laserscan work! -->
  <gazebo reference="laser_mount">
    <material>Gazebo/DarkGrey</material>
  </gazebo>
  <gazebo reference="plate_link">
    <material>Gazebo/White</material>
  </gazebo>
  <gazebo reference="base_link">
    <mu1 value="0.0"/>
    <mu2 value="0.0"/>
  </gazebo>
</robot>
